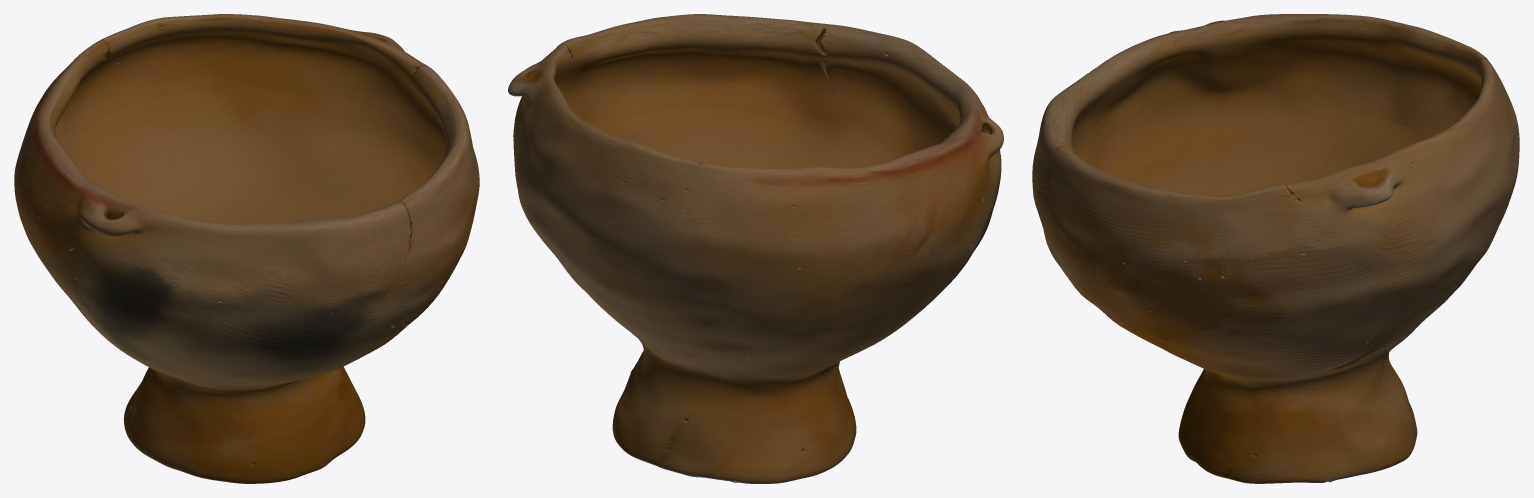
The model's file is cuenco-2.glb.
3 renders of one model, left to right at view 1: azimuth 30°, elevation 25°; view 2: azimuth 150°, elevation 25°; view 3: azimuth 270°, elevation 25°, orthographic. The views are drawn at different scales.
Parts seen in each view (by area): view 1: tripo_node_1ae5097b-275d-43d9-919c-59b3527e14c0; view 2: tripo_node_1ae5097b-275d-43d9-919c-59b3527e14c0; view 3: tripo_node_1ae5097b-275d-43d9-919c-59b3527e14c0.
Boxes of the visible parts, bbox=[...] form: tripo_node_1ae5097b-275d-43d9-919c-59b3527e14c0: bbox=[14, 14, 479, 483]; tripo_node_1ae5097b-275d-43d9-919c-59b3527e14c0: bbox=[508, 14, 1003, 483]; tripo_node_1ae5097b-275d-43d9-919c-59b3527e14c0: bbox=[1032, 14, 1519, 483].
Bounding box in the file's own units: 0.9795 × 0.8144 × 0.9798.
Materials: 1 (1 with a texture image).
